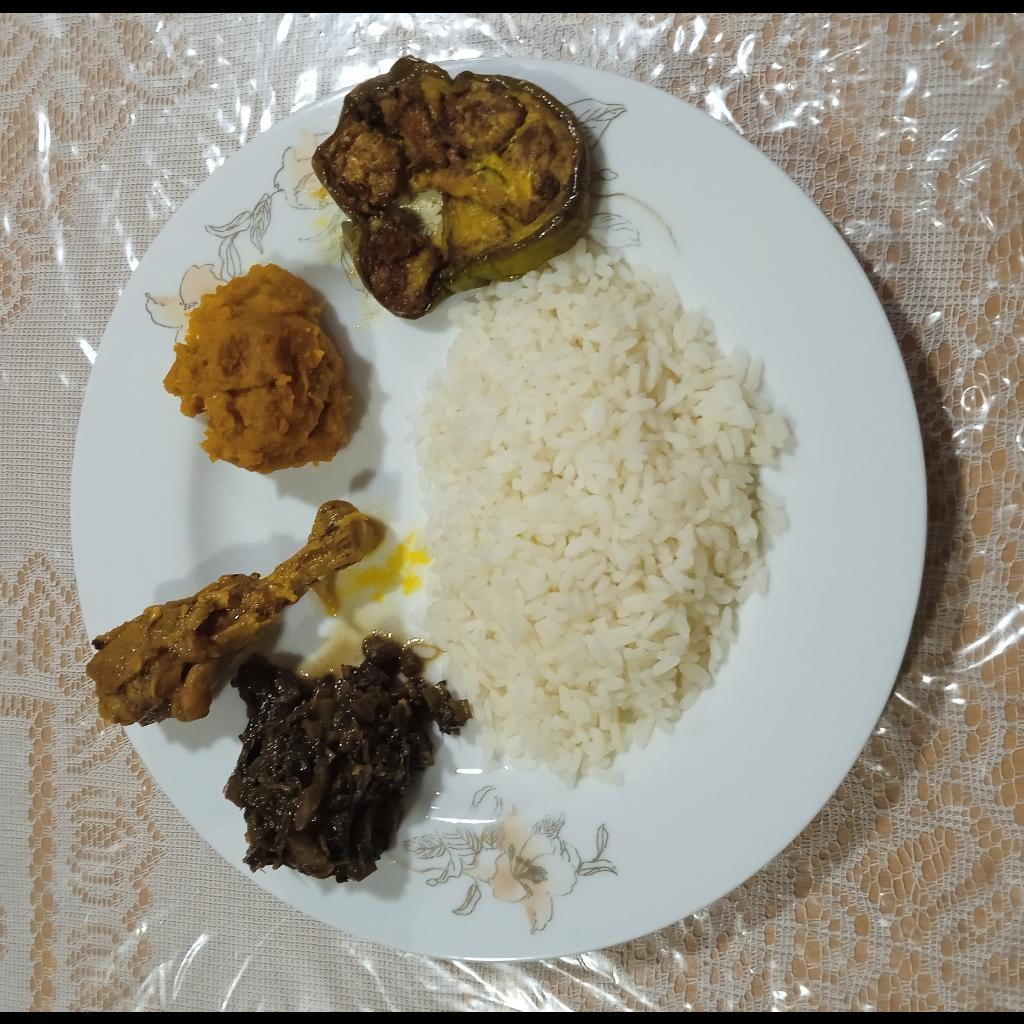begun-vaji: (312, 53, 597, 319)
chicken: (81, 494, 388, 727)
kumra-vaji: (155, 260, 356, 472)
rice: (396, 251, 797, 788)
shak: (219, 633, 470, 882)
